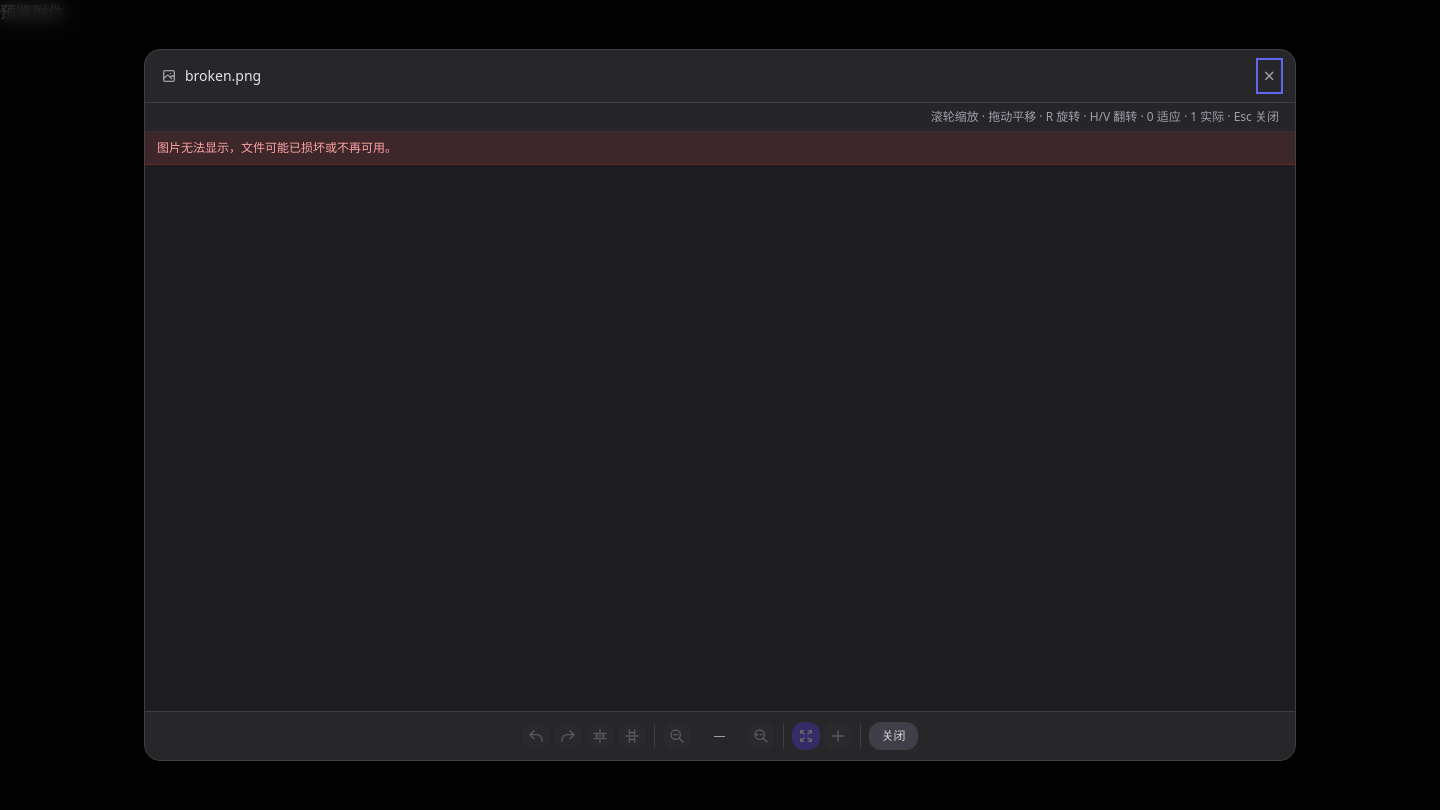
Test: AttachmentPreview › 图片加载失败有明确提示，关闭不留下图片
expect the message "图片无法显示，文件可能已损坏或不再可用。" is shown: met, box 145,132 -> 1295,165
Click the button "×" at (1269, 76), box 1260,62 -> 1279,90
Wait 450 ms
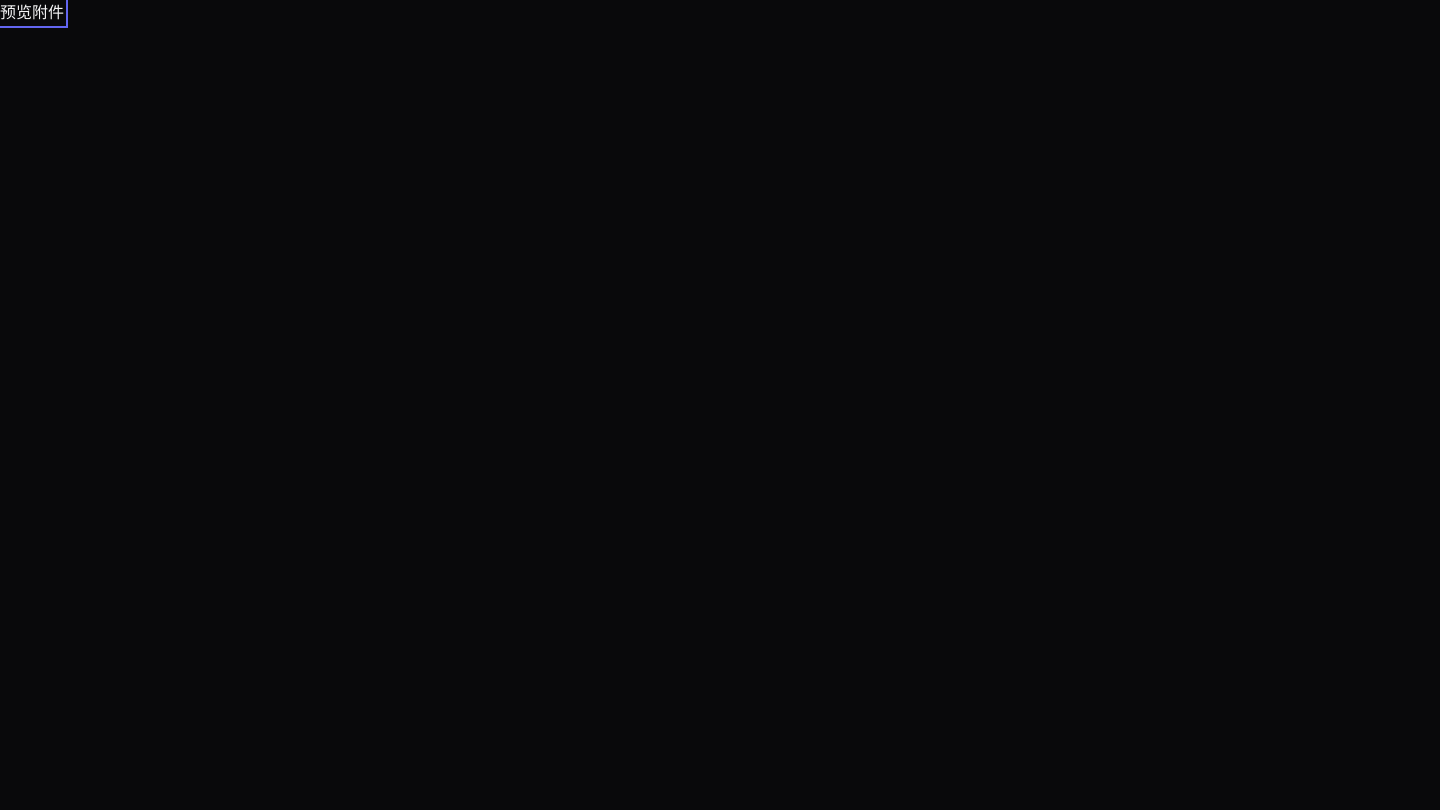
expect the dialog is gone: met
